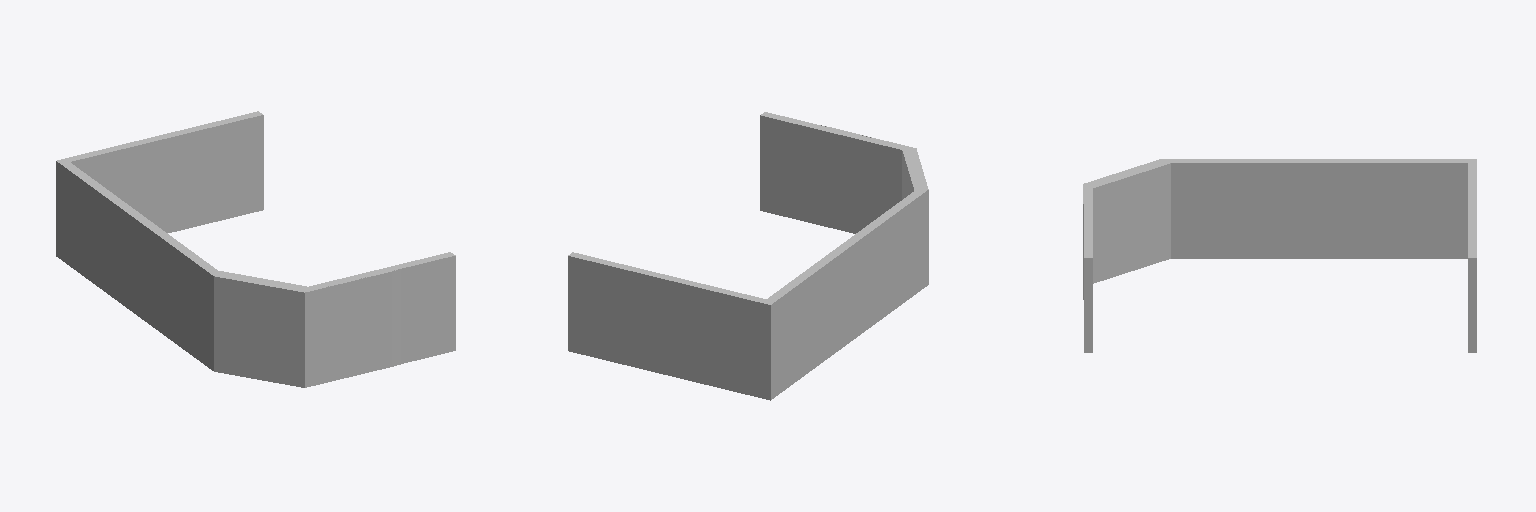
File: Wall (Others).obj
3 views of the same model, side by side, from view 1: azimuth 30°, elevation 25°; view 2: azimuth 150°, elevation 25°; view 3: azimuth 270°, elevation 25° (orthographic).
Parts seen in each view (by area): view 1: Other_Walls_Cube.001; view 2: Other_Walls_Cube.001; view 3: Other_Walls_Cube.001.
Boxes of the visible parts, x1=… form: Other_Walls_Cube.001: x1=56, y1=111, x2=455, y2=387; Other_Walls_Cube.001: x1=568, y1=112, x2=928, y2=400; Other_Walls_Cube.001: x1=1083, y1=159, x2=1476, y2=352.
Size of the model in its own units: 22.23 by 10.02 by 37.49.